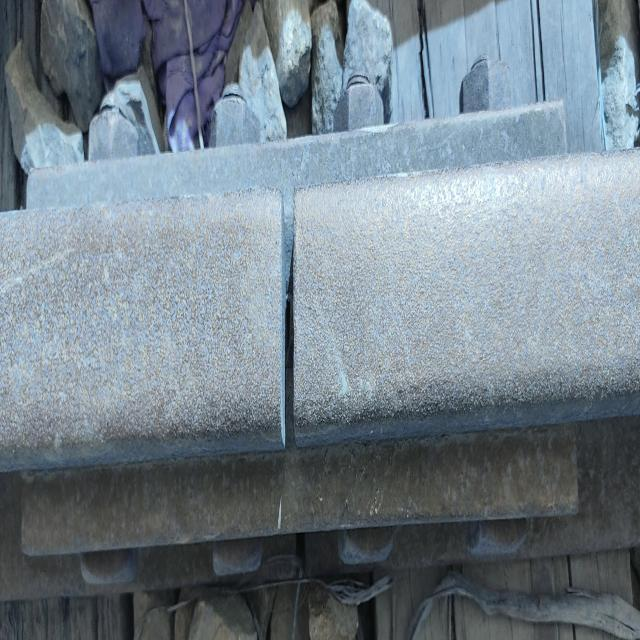Good Joint: (29, 48, 583, 592)
